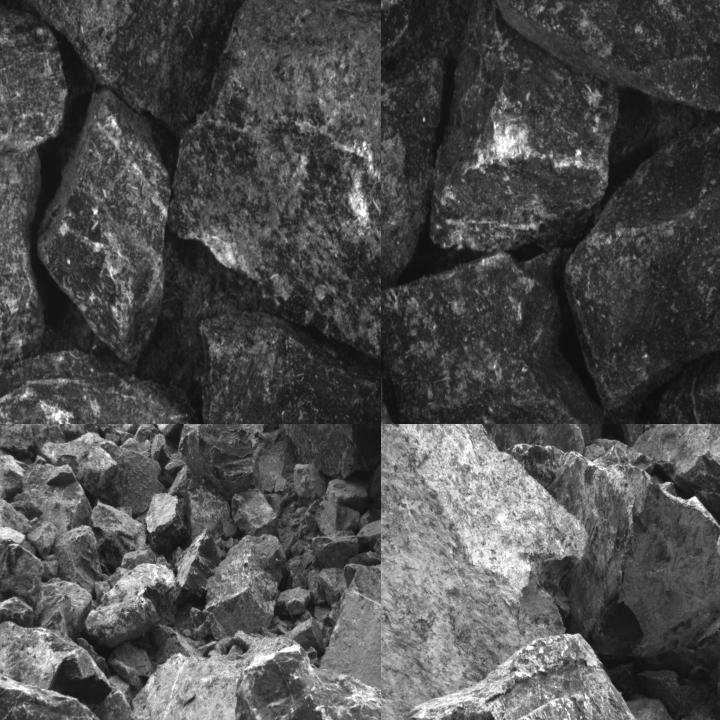stone: (171, 0, 380, 355), (381, 424, 586, 719), (430, 0, 618, 250), (567, 120, 719, 423), (381, 245, 607, 423), (5, 0, 266, 140), (39, 90, 167, 371), (494, 0, 719, 126), (599, 448, 719, 667), (381, 636, 691, 719), (518, 444, 631, 644), (193, 312, 380, 423), (0, 348, 219, 423), (381, 57, 443, 293), (133, 641, 282, 719), (182, 532, 286, 640), (0, 145, 47, 375), (38, 432, 165, 514), (0, 6, 65, 152), (0, 623, 113, 706), (660, 282, 719, 423), (87, 563, 180, 649), (321, 565, 380, 689), (635, 424, 719, 510), (178, 424, 262, 502), (276, 424, 380, 478), (16, 464, 92, 528), (88, 499, 147, 570), (454, 424, 585, 454), (146, 464, 188, 551), (0, 544, 46, 623), (52, 528, 100, 593), (229, 488, 279, 535), (0, 424, 64, 456), (311, 532, 358, 564), (151, 424, 202, 439), (40, 424, 86, 435)
